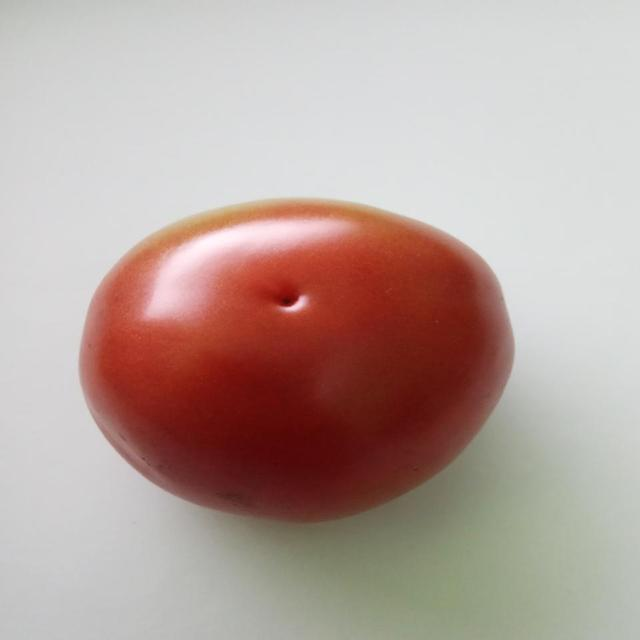Healthy Fruit: (48, 128, 349, 349)
